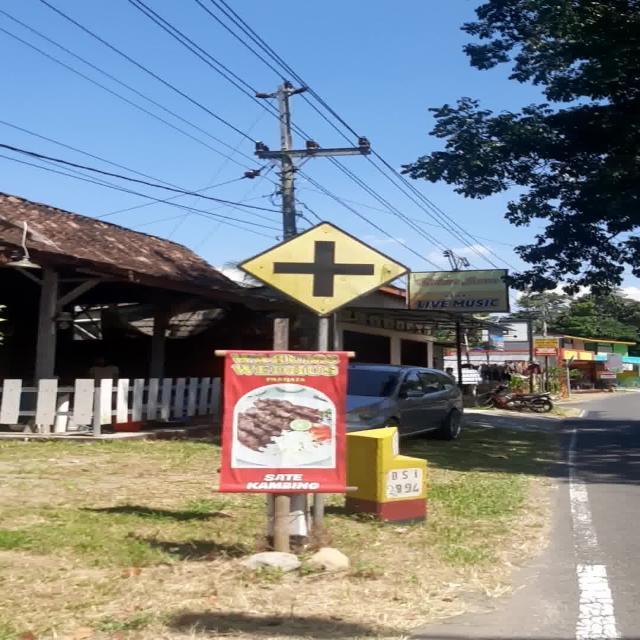Persimpangan 4: (237, 222, 411, 318)
